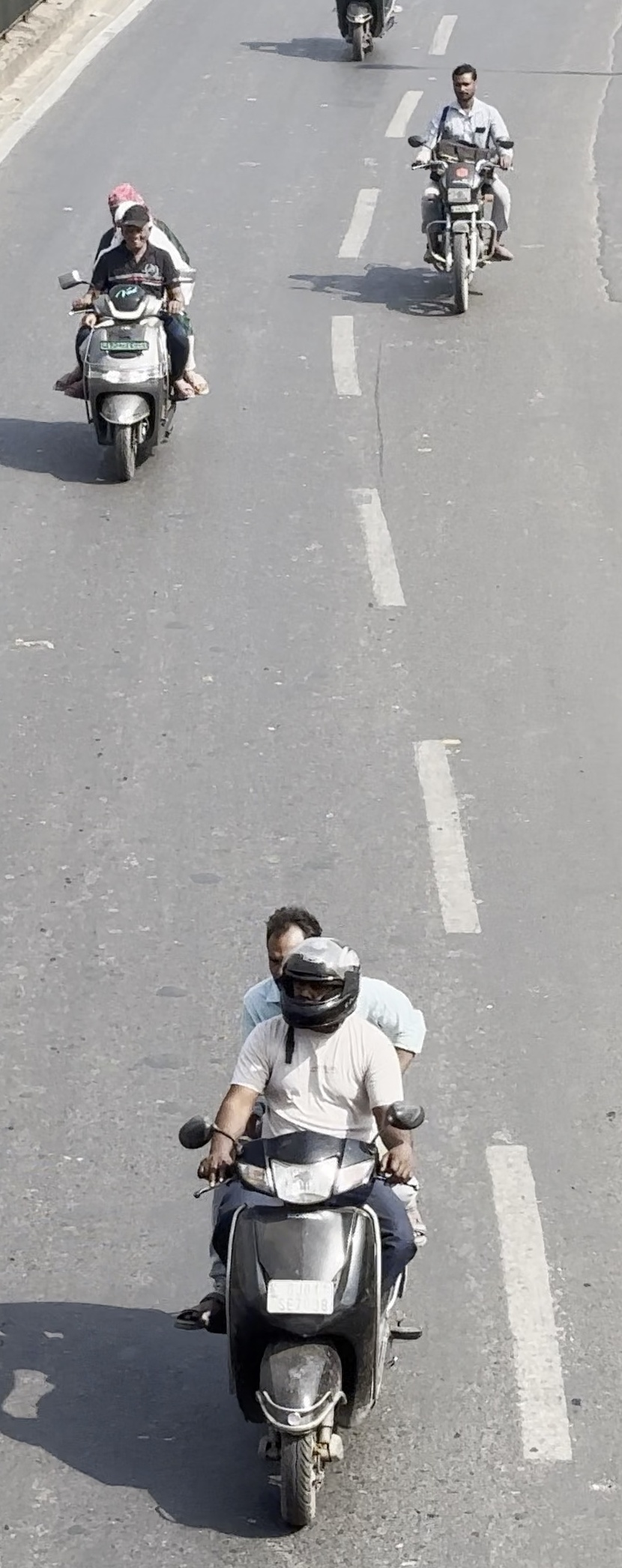BikeWithRider: (157, 891, 462, 1528), (31, 173, 208, 483), (374, 44, 534, 337)
Helmet: (277, 935, 366, 1030)
NoHelmet: (255, 902, 324, 986), (102, 184, 145, 229), (112, 202, 150, 247), (448, 63, 480, 102)
